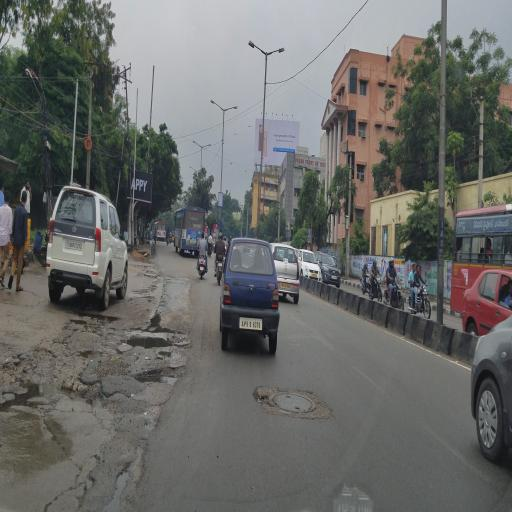street_light_0: (264, 39, 292, 71), (242, 33, 266, 69), (205, 90, 225, 120), (221, 99, 243, 121), (190, 131, 204, 155), (200, 139, 216, 156)
